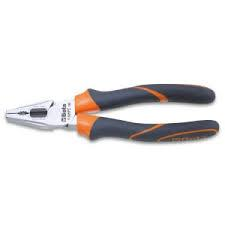pliers: (4, 81, 219, 142)
